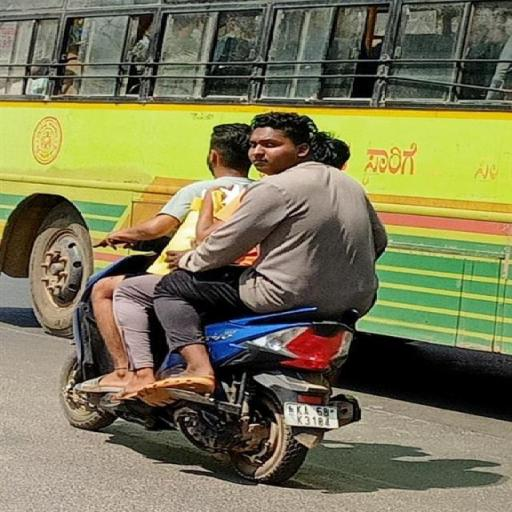tripple riding: (84, 110, 409, 312)
